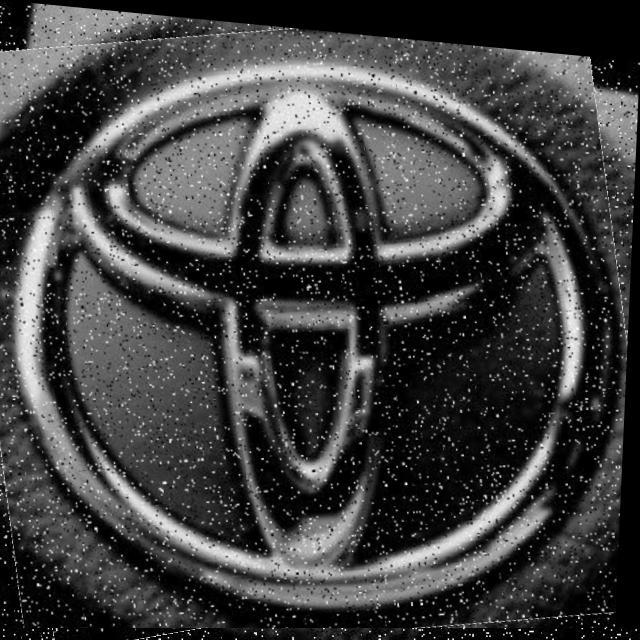Toyota: (0, 0, 640, 628)
